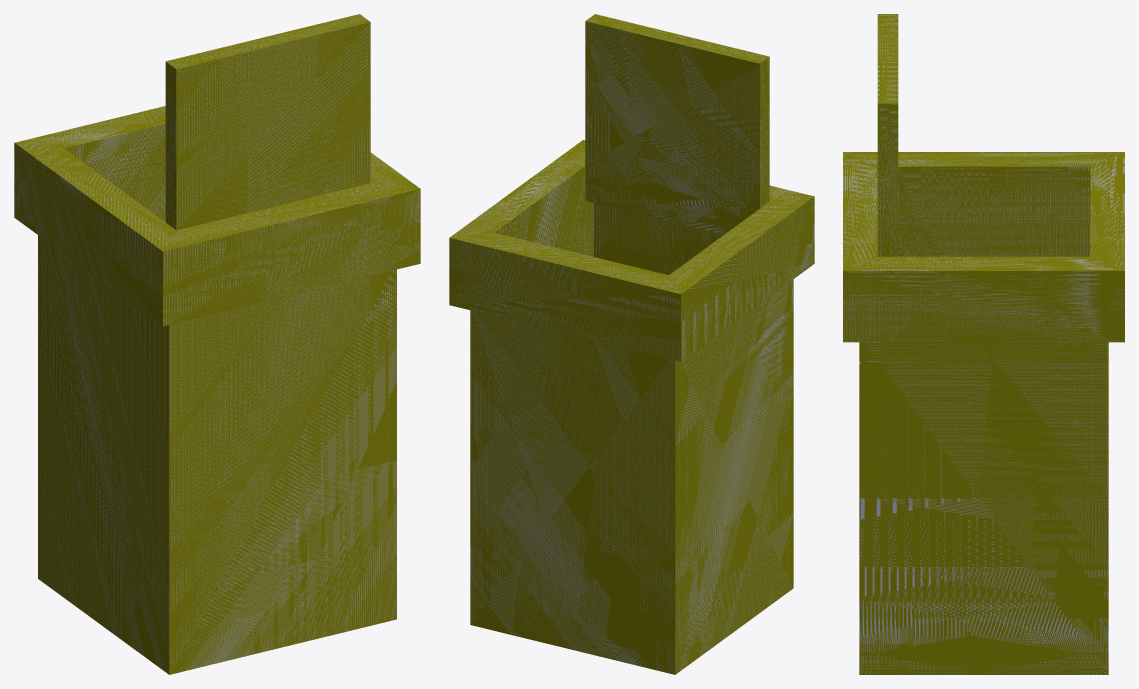
3 renders of one model, left to right at view 1: azimuth 30°, elevation 25°; view 2: azimuth 150°, elevation 25°; view 3: azimuth 270°, elevation 25°, orthographic. The views are drawn at different scales.
Parts seen in each view (by area): view 1: SketchUp (×3); view 2: SketchUp (×3); view 3: SketchUp (×3).
Part boxes in pixels (x1,y1,x2,y2): SketchUp (×3): [14, 14, 420, 674]; SketchUp (×3): [449, 14, 814, 674]; SketchUp (×3): [843, 14, 1124, 674].
Size of the model in its own units: 24.25 by 24.25 by 53.5.
